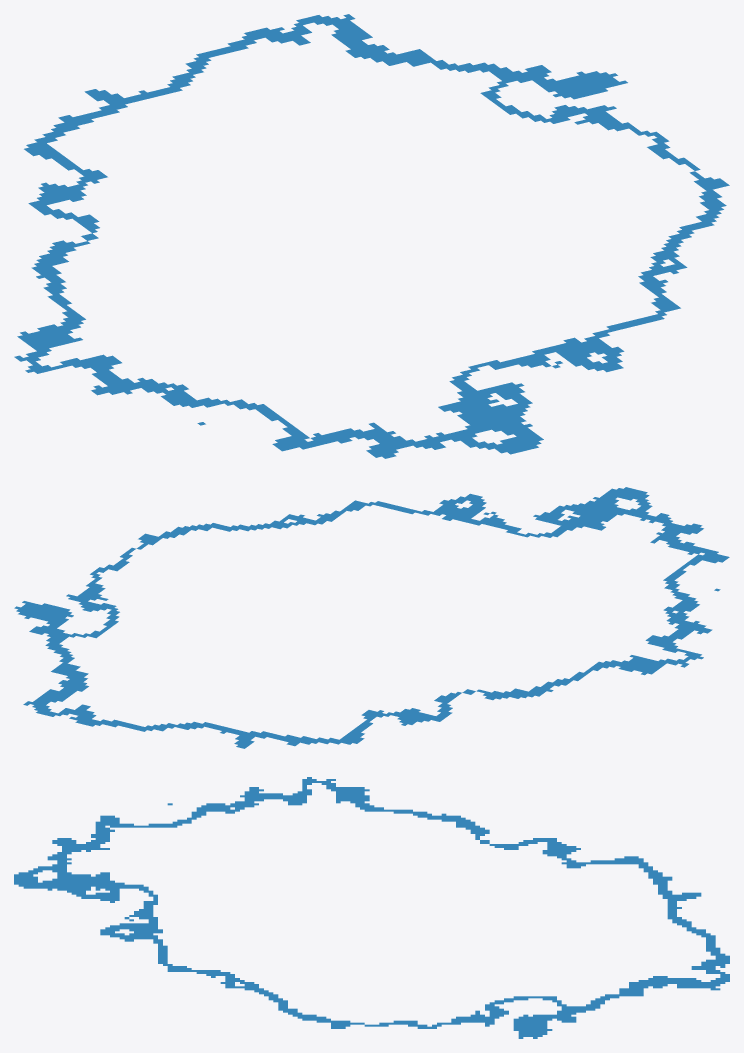
The model's file is Isl-bot4-PlaceForWaterObjects.fbx.
The picture shows the model from 3 angles, top to bottom: view 1: azimuth 30°, elevation 25°; view 2: azimuth 150°, elevation 25°; view 3: azimuth 270°, elevation 25°; orthographic projection. The views are drawn at different scales.
Visible parts, largest first — view 1: Isl-bot4-PlaceForWaterObjects; view 2: Isl-bot4-PlaceForWaterObjects; view 3: Isl-bot4-PlaceForWaterObjects.
Boxes of the visible parts, x1=… form: Isl-bot4-PlaceForWaterObjects: x1=14, y1=14, x2=729, y2=458; Isl-bot4-PlaceForWaterObjects: x1=14, y1=487, x2=729, y2=748; Isl-bot4-PlaceForWaterObjects: x1=14, y1=777, x2=729, y2=1038.
Bounding box in the file's own units: 129 × 0 × 149.
